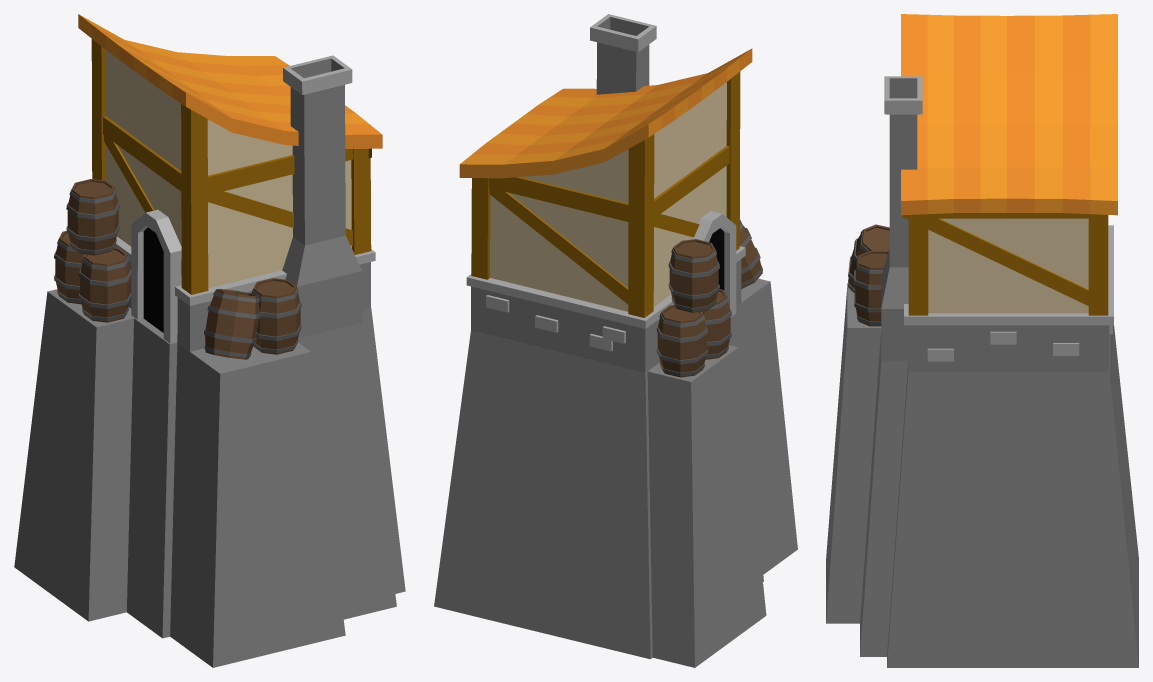
The model's file is granary.gltf.
The picture shows the model from 3 angles, left to right: view 1: azimuth 30°, elevation 25°; view 2: azimuth 150°, elevation 25°; view 3: azimuth 270°, elevation 25°; orthographic projection. The views are drawn at different scales.
Parts seen in each view (by area): view 1: Plane.001; view 2: Plane.001; view 3: Plane.001.
Boxes of the visible parts, box(x1,y1,x2,y2) form: Plane.001: box(14, 14, 405, 667); Plane.001: box(434, 14, 797, 667); Plane.001: box(826, 14, 1138, 667).
Bounding box in the file's own units: 0.9979 × 1.94 × 0.9984.
1 material, 1 textured.
